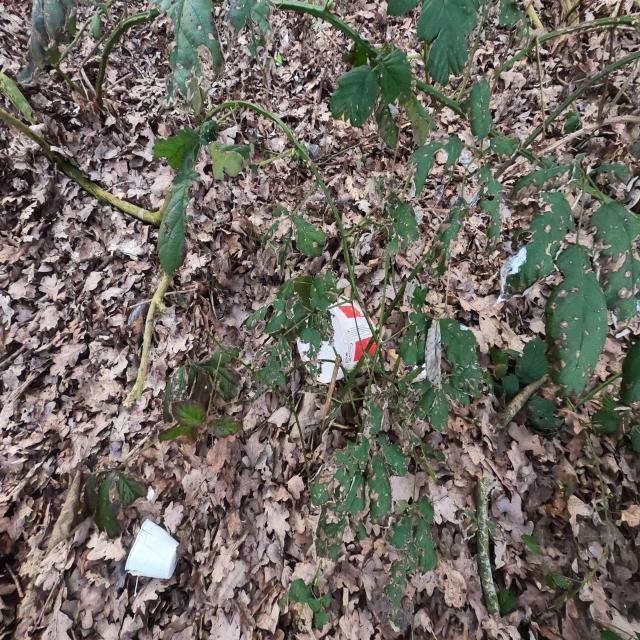Cup: (124, 518, 180, 580)
Paper: (295, 298, 383, 385)
